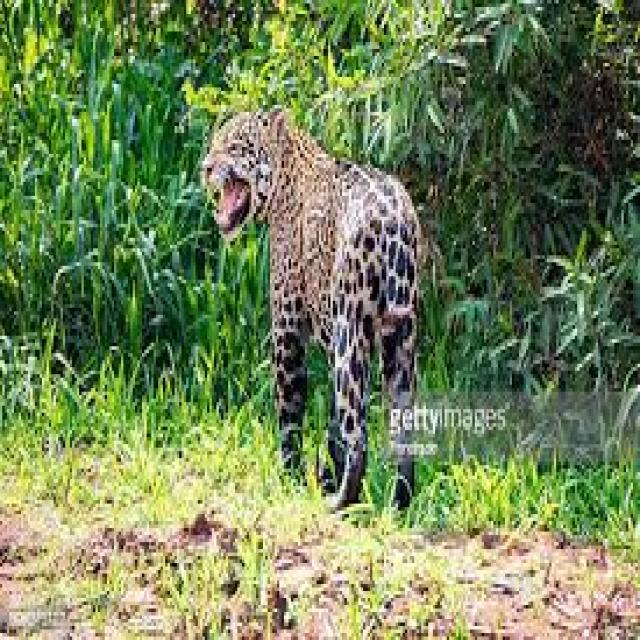Jaguar: (202, 94, 419, 510)
